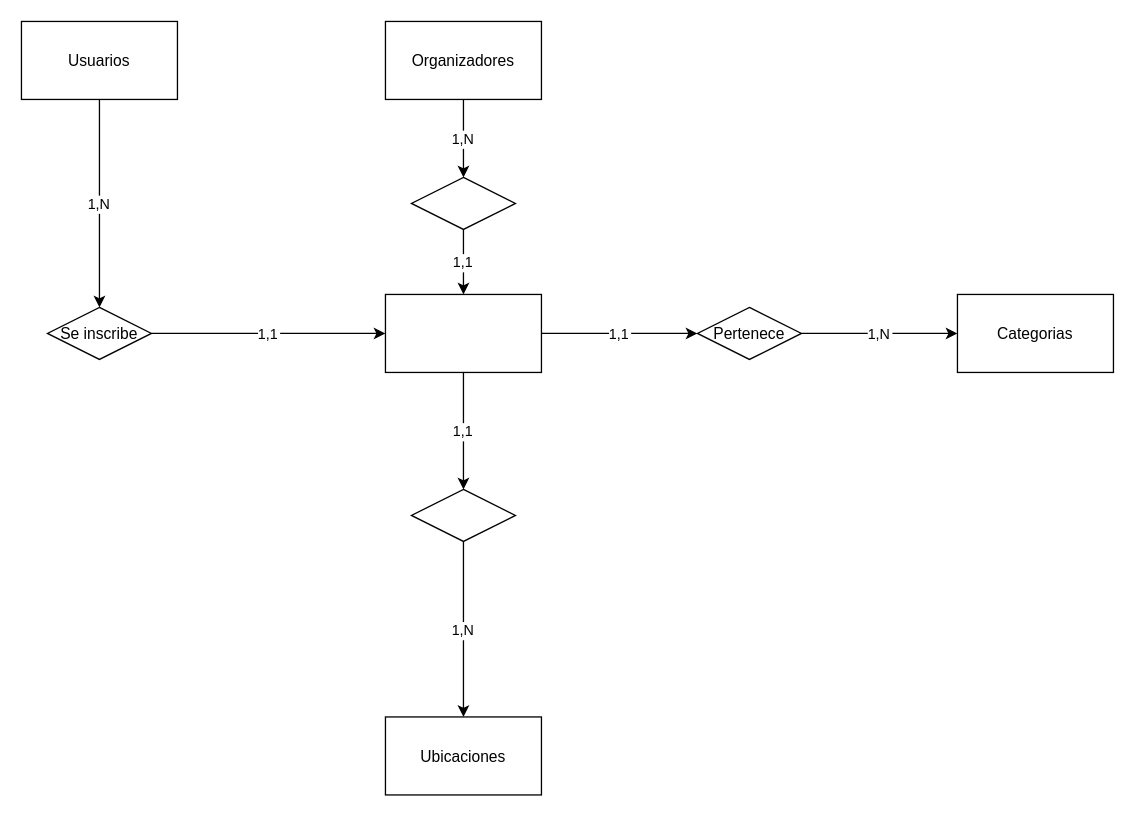
Image size: 1135x816. Some labels were removed from this diagram. The centre of each missing label's shape, as x and y in pixels:
"Eventos" belongs at [462,332].
"Organiza" belongs at [462,202].
"Se realiza" belongs at [462,514].
